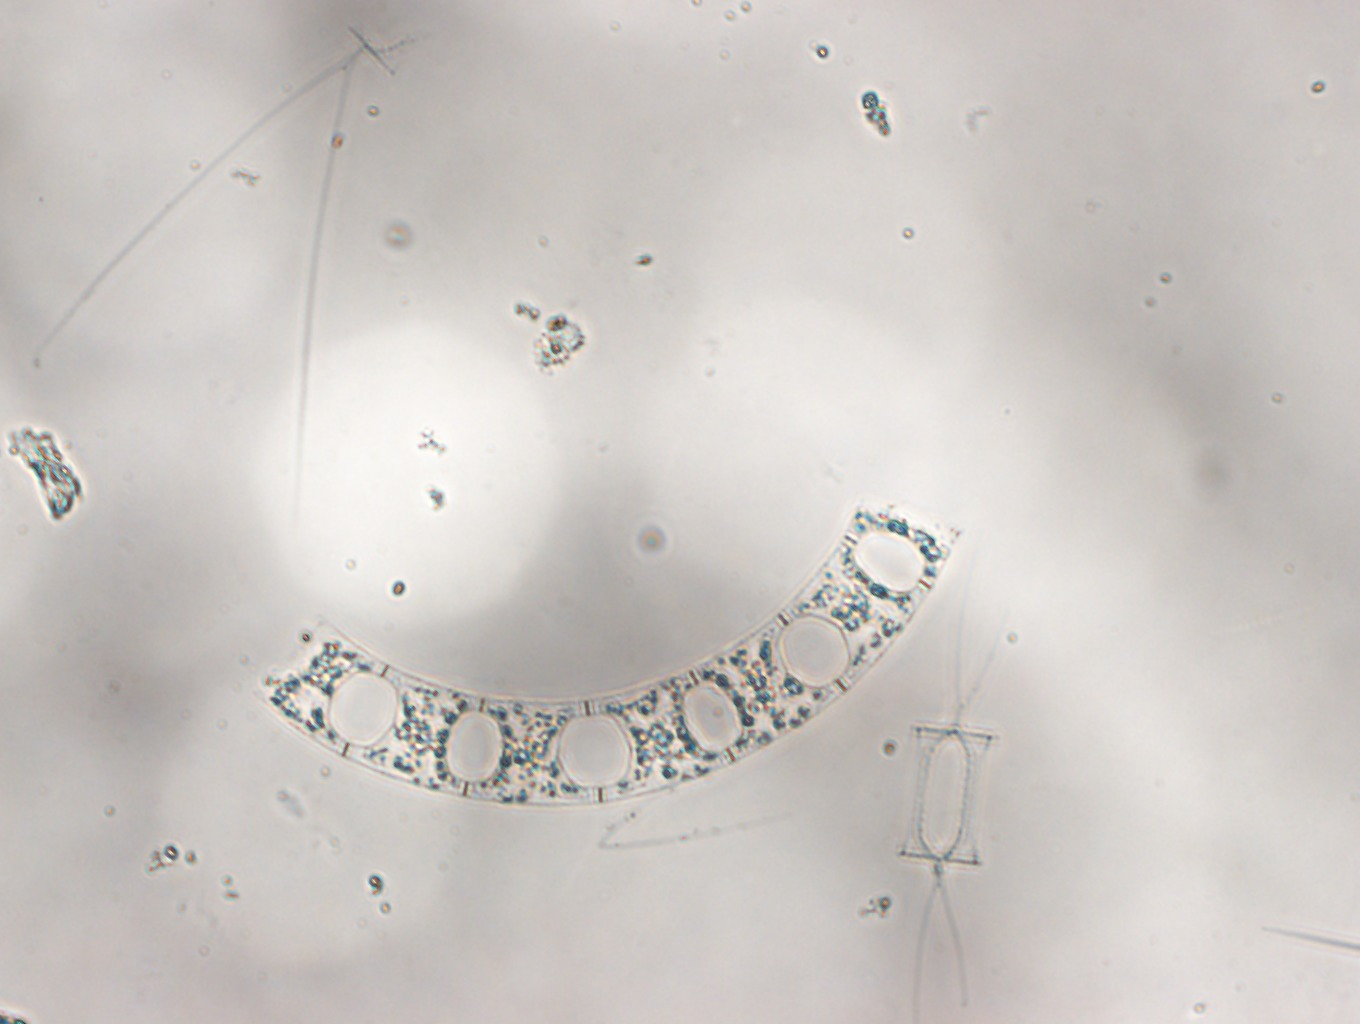chaetoceros: (31, 6, 447, 513), (897, 614, 1011, 1024)
eucampia: (257, 499, 961, 809)
